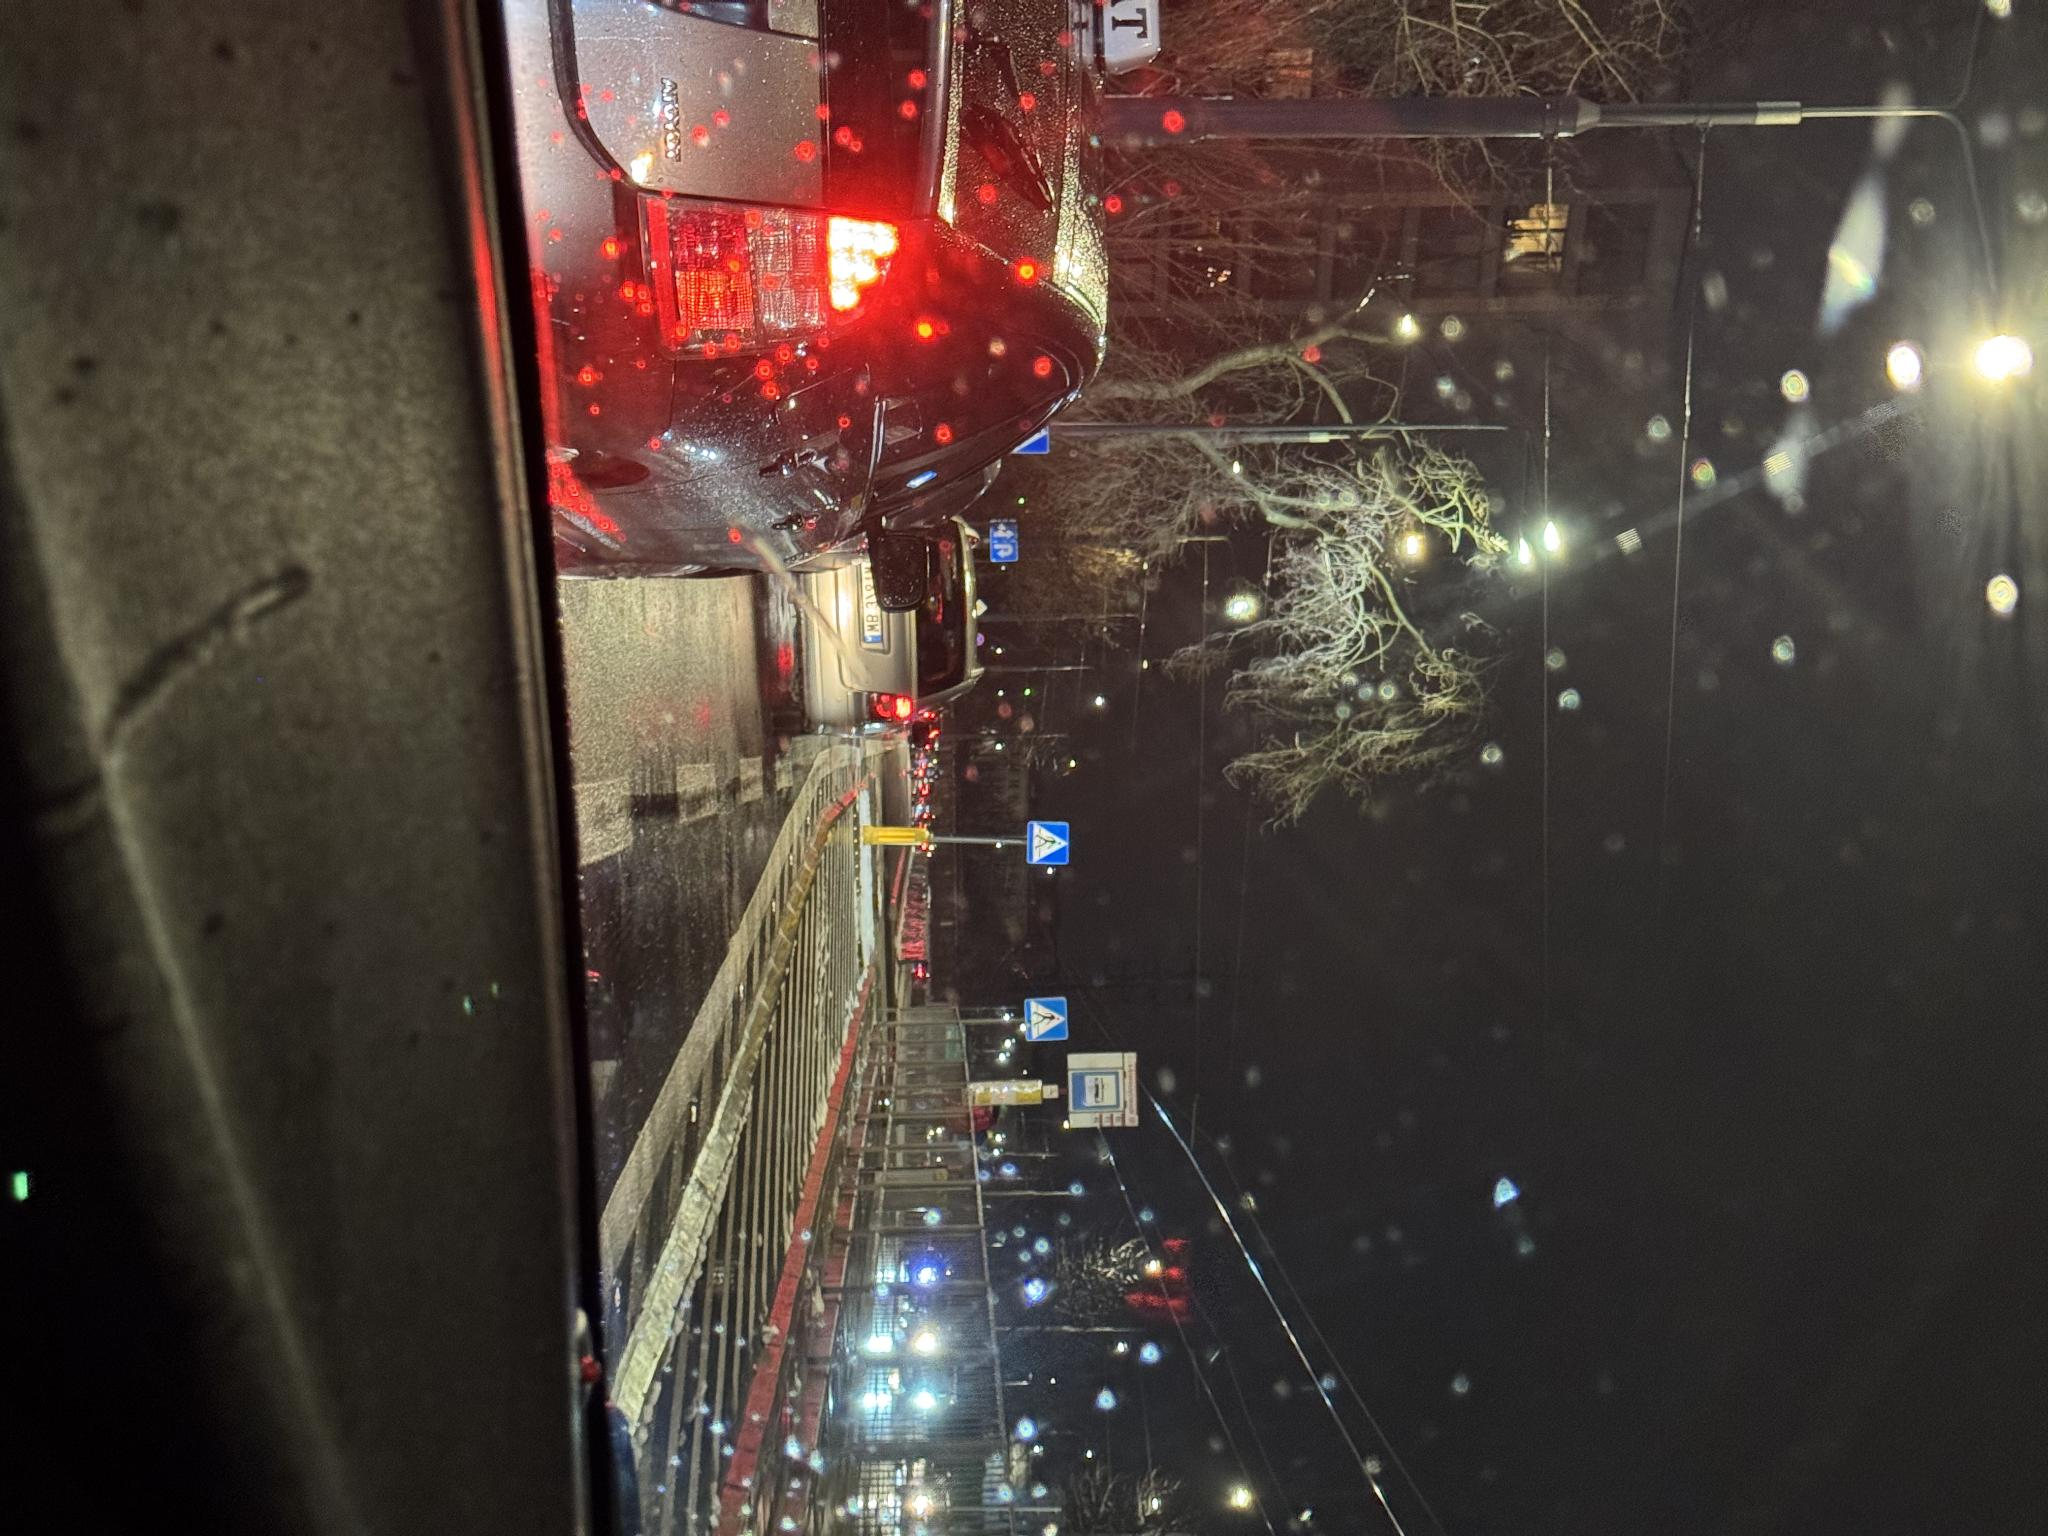information: (1508, 978, 1553, 1025), (1334, 978, 1376, 1021)
other: (1030, 1029, 1072, 1058)
prohibitory: (1143, 1063, 1156, 1071)
